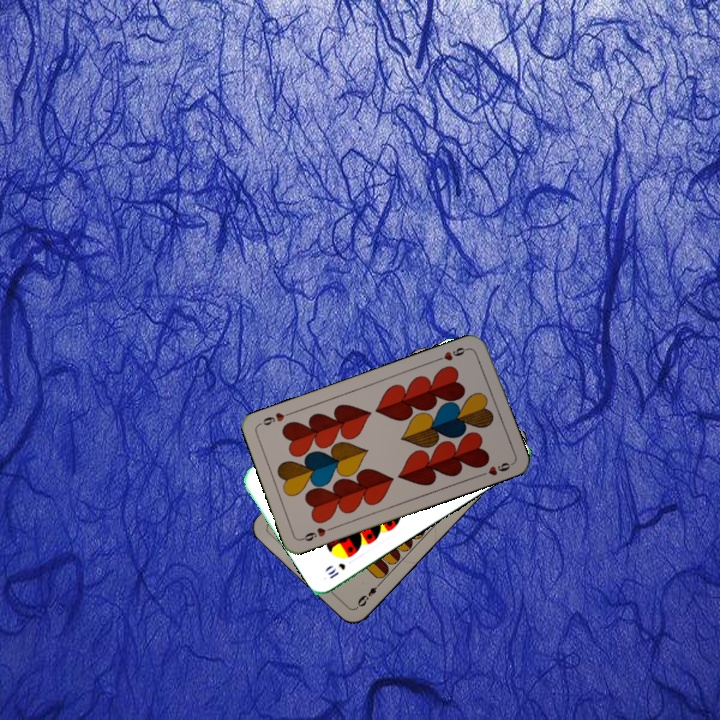E9: (353, 578, 384, 609)
H9: (297, 523, 336, 544), (433, 343, 472, 363)
S10: (324, 559, 348, 581)
